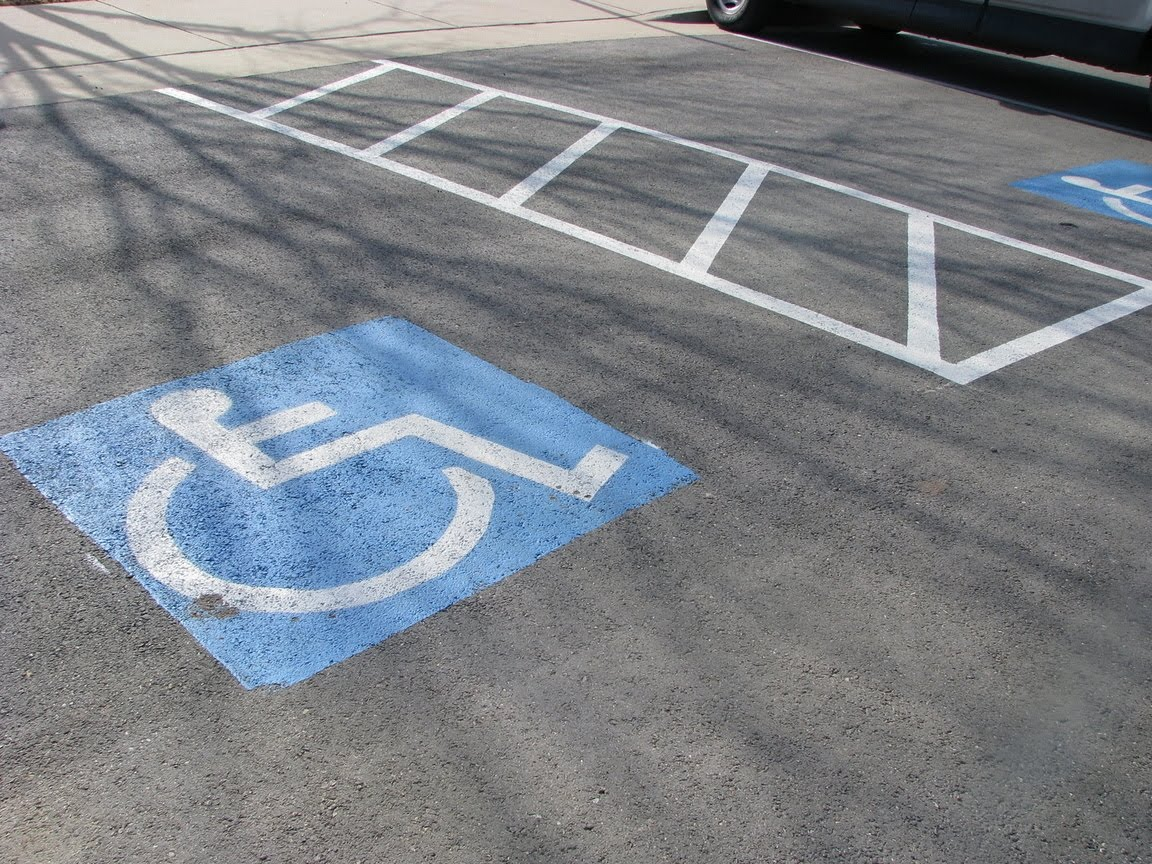empyt_space: (5, 86, 1064, 690), (384, 32, 1152, 296)
